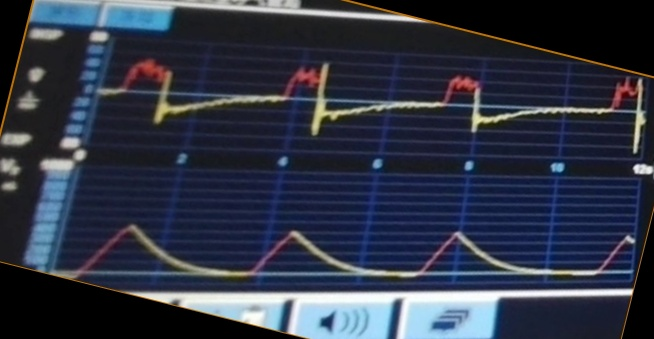Accumulation Flow: (104, 56, 646, 151)
Volume: (69, 203, 631, 284)
